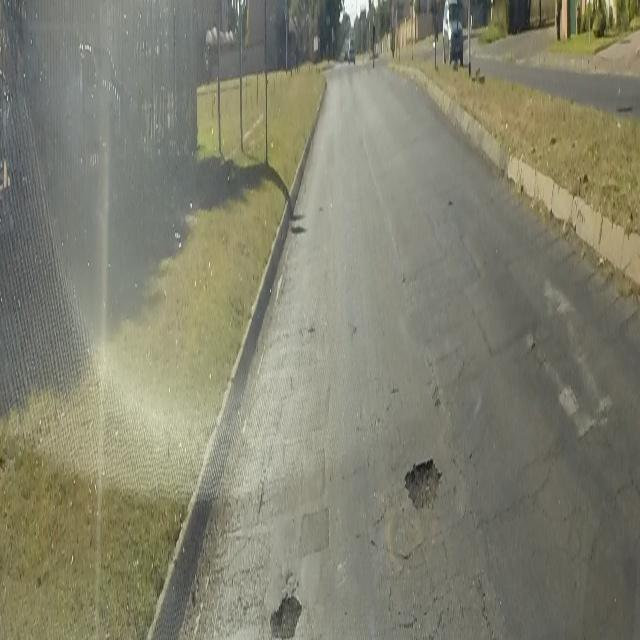pothole: (402, 449, 443, 515), (267, 587, 305, 640)
